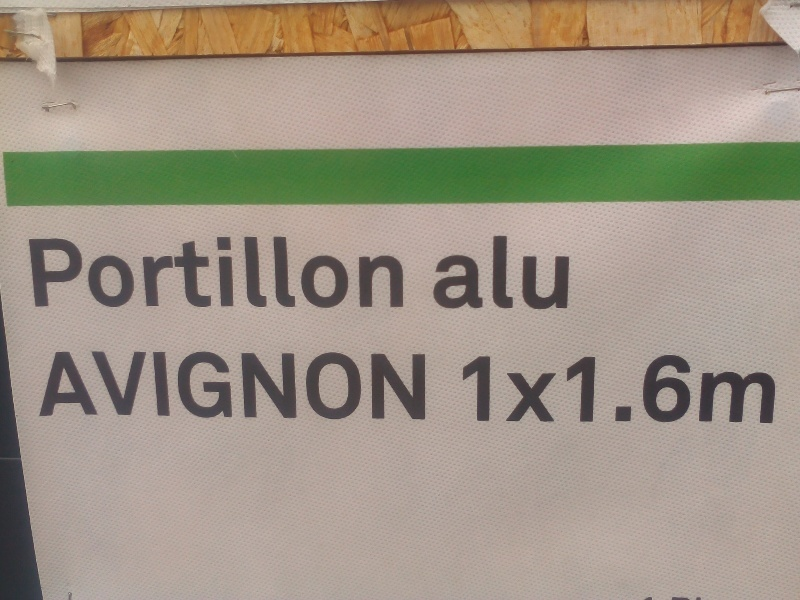text: (433, 231, 448, 310), (449, 231, 464, 310), (465, 231, 480, 310), (481, 231, 496, 310), (497, 231, 512, 310), (513, 231, 528, 310), (529, 231, 544, 310), (545, 231, 560, 310), (33, 234, 48, 309), (49, 234, 64, 309), (65, 234, 80, 309), (81, 234, 96, 309), (97, 234, 112, 309), (113, 234, 128, 309), (129, 234, 144, 309), (145, 234, 160, 309), (161, 234, 176, 309), (177, 234, 192, 309), (193, 234, 208, 309), (209, 234, 224, 309), (225, 234, 240, 309), (241, 234, 256, 309), (257, 234, 272, 309), (273, 234, 288, 309), (289, 234, 304, 309), (305, 234, 320, 309), (321, 234, 336, 309), (337, 234, 352, 309), (353, 234, 368, 309), (369, 234, 384, 309), (385, 234, 400, 309), (465, 353, 480, 427), (481, 353, 496, 427), (497, 353, 512, 427), (513, 353, 528, 427), (529, 353, 544, 427), (545, 353, 560, 427), (561, 353, 576, 427), (577, 353, 592, 427), (593, 353, 608, 427), (609, 353, 624, 427), (625, 353, 640, 427), (641, 353, 656, 427), (657, 353, 672, 427), (673, 353, 688, 427), (689, 353, 704, 427), (705, 353, 720, 427), (721, 353, 736, 427), (737, 353, 752, 427), (753, 353, 768, 427), (49, 350, 64, 420), (65, 350, 80, 420), (81, 350, 96, 420), (97, 350, 112, 420), (113, 350, 128, 420), (129, 350, 144, 420), (145, 350, 160, 420), (161, 350, 176, 420), (177, 350, 192, 420), (193, 350, 208, 420), (209, 350, 224, 420), (225, 350, 240, 420), (241, 350, 256, 420), (257, 350, 272, 420), (273, 350, 288, 420), (289, 350, 304, 420), (305, 350, 320, 420), (321, 350, 336, 420), (337, 350, 352, 420), (353, 350, 368, 420), (369, 350, 384, 420), (385, 350, 400, 420), (401, 350, 416, 420), (769, 353, 780, 427), (561, 231, 570, 310), (417, 350, 427, 420), (40, 350, 48, 420), (401, 234, 406, 309), (28, 234, 32, 309), (461, 353, 464, 427), (431, 231, 432, 310)
